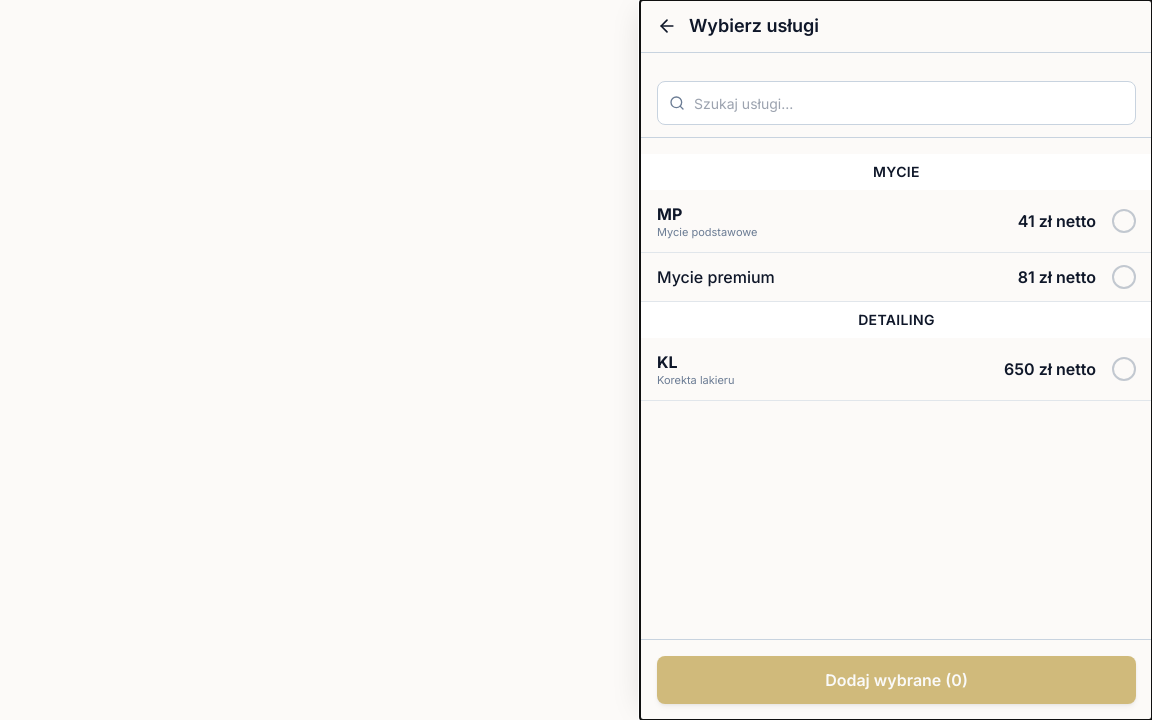
Test: OfferProductPickerDrawer › search filters products by name
Expected: the number of buttons with test id "product-item" is 3, [641,190,1151,253]; [641,253,1151,302]; [641,338,1151,401]
In the search field with placeholder "Szukaj usługi...": (896, 103) [657,81,1136,125], type "korekta"
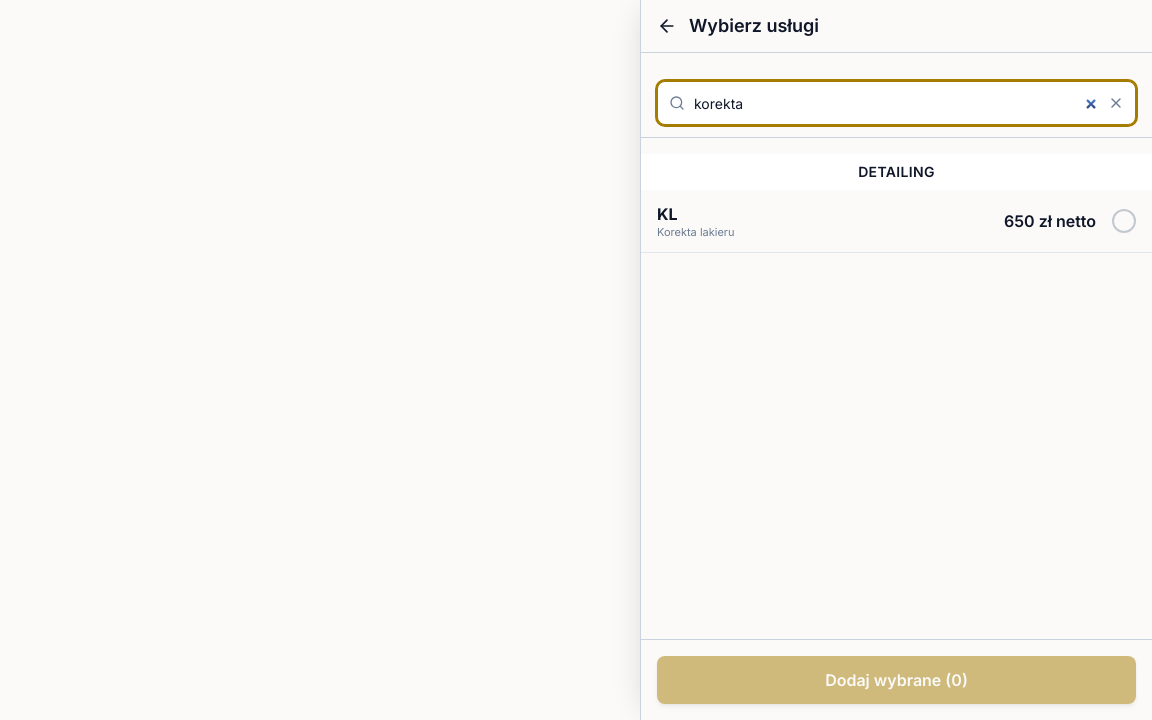
Expected: the text "KL" is shown, [657,204,678,224]
Result: the number of buttons with test id "product-item" is 1 at [641,190,1151,253]
Result: the button "MP" is gone
